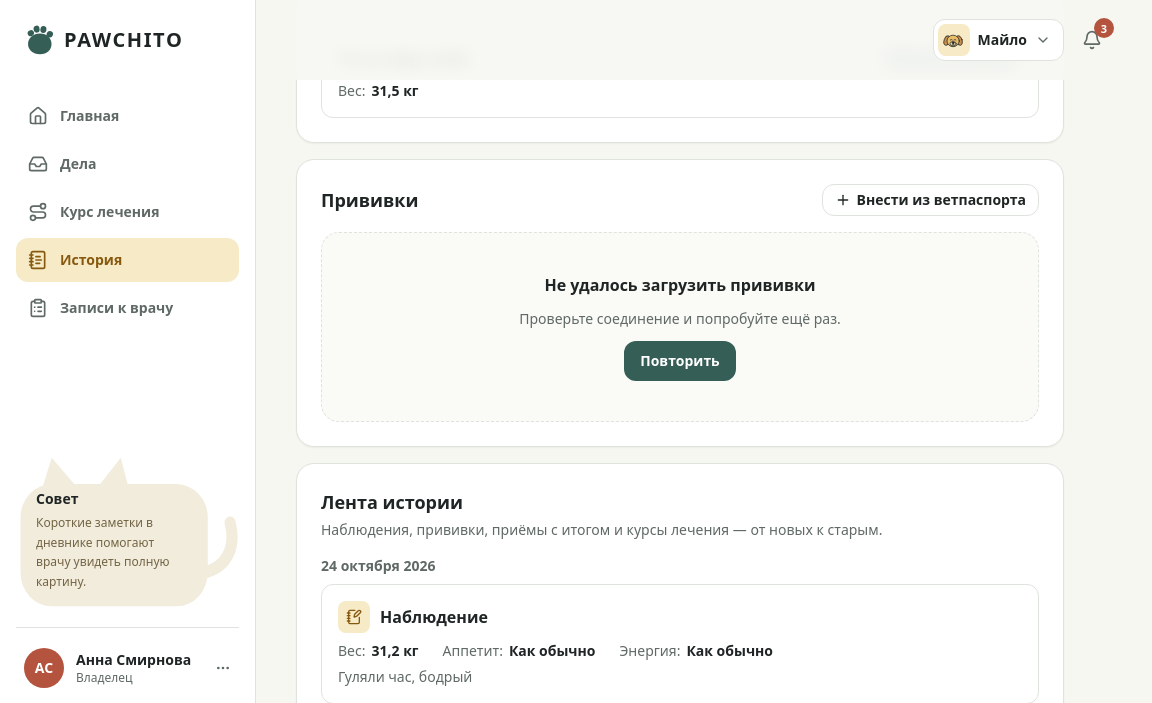
it: HistoryPage › ошибка загрузки раздела — свой «Повторить», остальные разделы работают
(page scrolled)
Check: the heading "Не удалось загрузить прививки" is shown, box top-left (544, 272), bottom-right (816, 296)
Click the button "Повторить".
click(680, 360)  # box top-left (624, 340), bottom-right (736, 380)
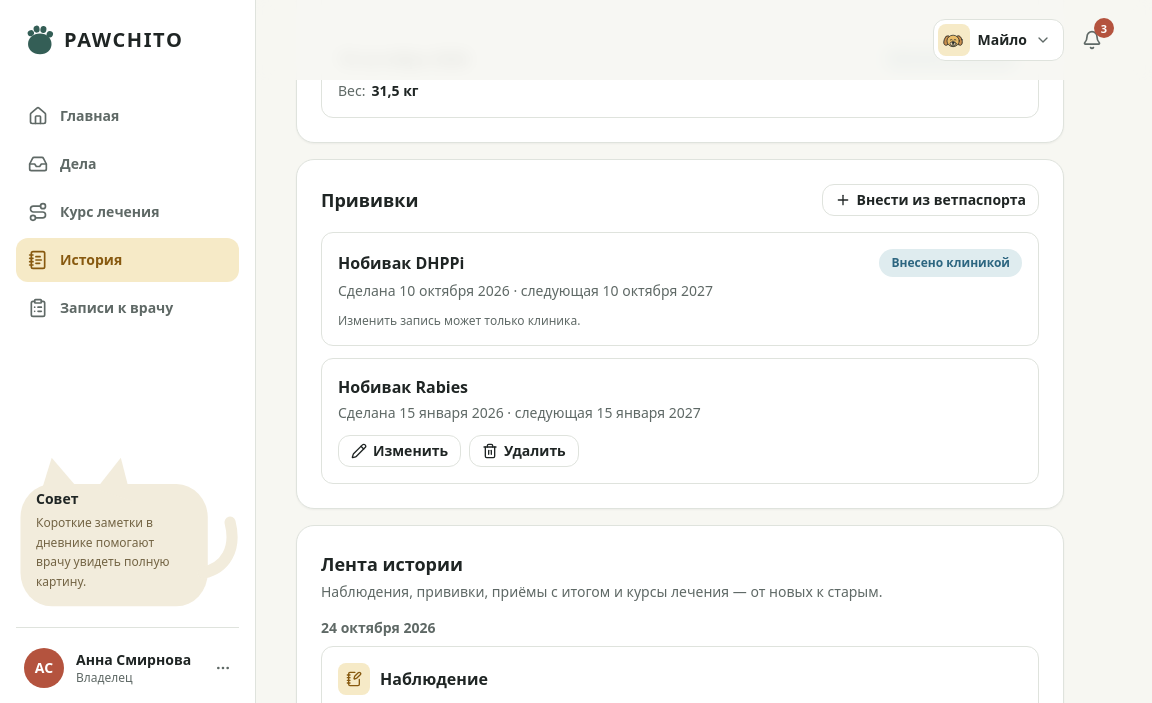
Check: the element "Нобивак Rabies" is shown, box top-left (321, 358), bottom-right (1039, 484)
